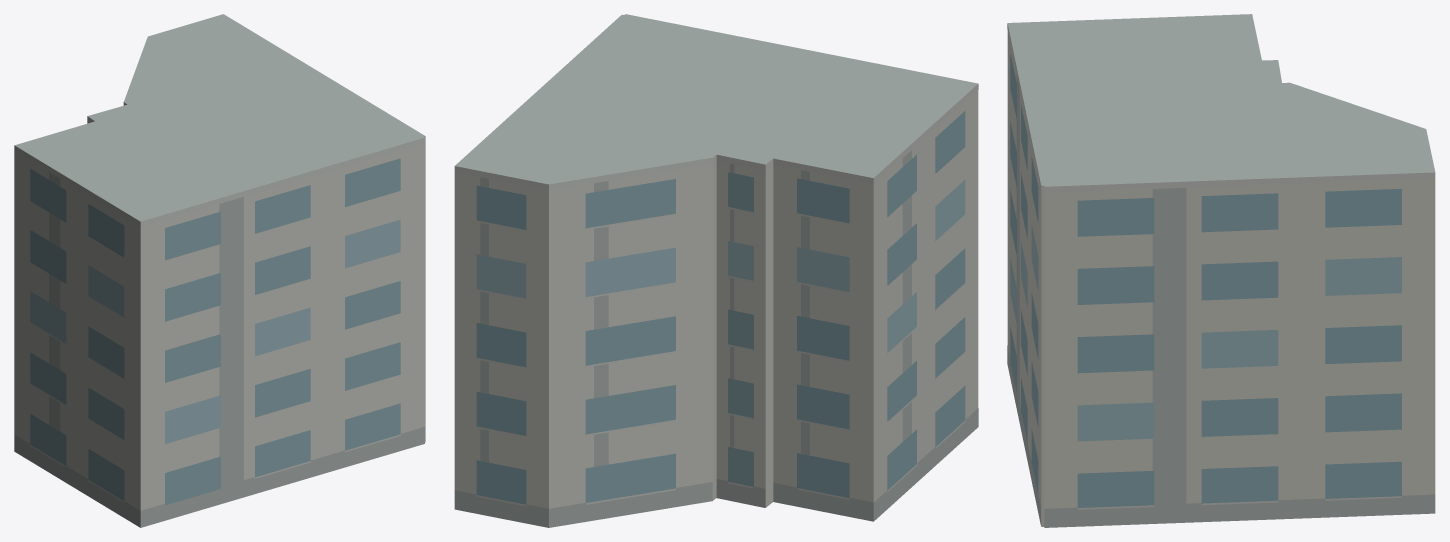
The model's file is survey-upis-32636506.glb.
3 renders of one model, left to right at view 1: azimuth 30°, elevation 25°; view 2: azimuth 150°, elevation 25°; view 3: azimuth 270°, elevation 25°, orthographic. The views are drawn at different scales.
Visible parts, largest first — view 1: survey-upis-32636506.tmp; view 2: survey-upis-32636506.tmp; view 3: survey-upis-32636506.tmp.
Part boxes in pixels (left/top/right/bottom): survey-upis-32636506.tmp: left=14, top=14, right=425, bottom=527; survey-upis-32636506.tmp: left=454, top=14, right=978, bottom=527; survey-upis-32636506.tmp: left=1007, top=14, right=1435, bottom=527.
Size of the model in its own units: 14.57 by 13.4 by 15.25.
